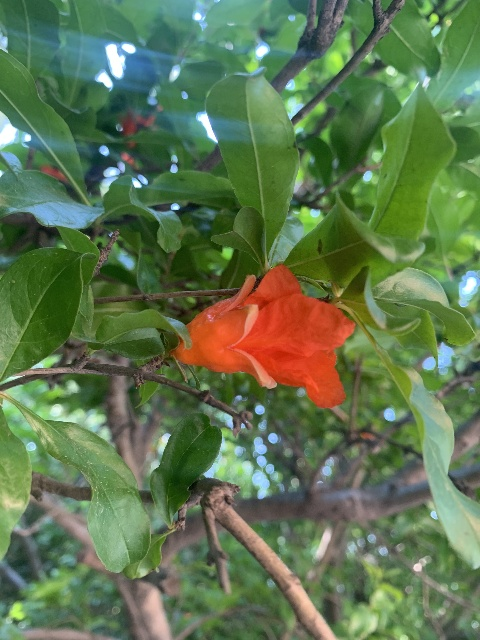flower: (172, 264, 353, 406)
